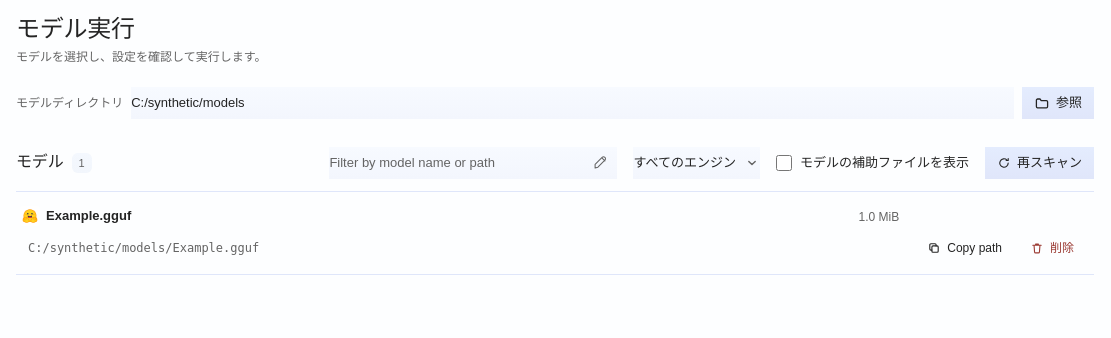
Test: model library empty results and filter recovery › explains query no-matches in ja and restores the scanned rows without changing the folder
The image size is (1111, 338).
Type "nothing matches" into the field named "Search models" at (473, 163), box [329,147,617,179]
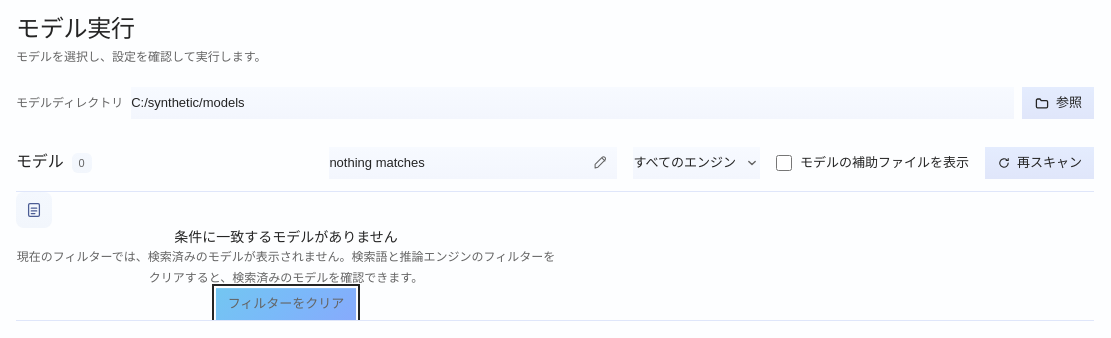
Expected: the heading "条件に一致するモデルがありません" is shown, [174,229,398,245]
Expected: the text "現在のフィルターでは、検索済みのモデルが表示されません。検索語と推論エンジンのフィルターをクリアすると、検索済みのモデルを確認できます。" is shown, [16,247,556,288]
Click the button "フィルターをクリア" at (286, 304), box [216,288,356,320]
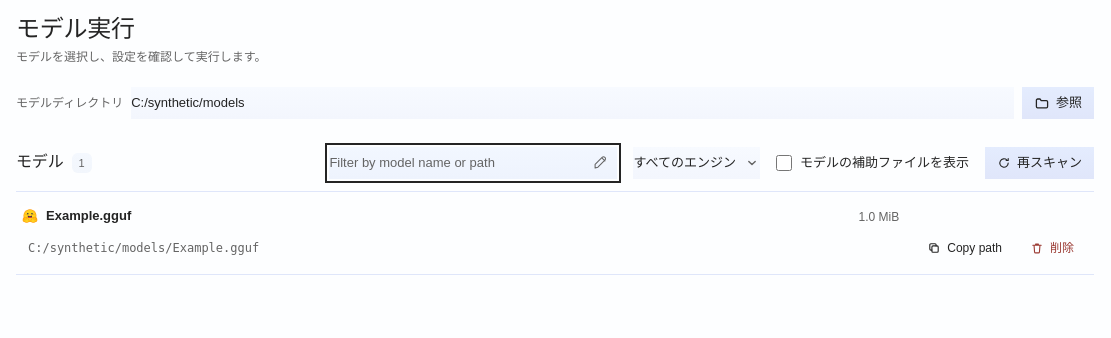
Expected: the checkbox labelled "モデルの補助ファイルを表示" is not checked, [776,155,792,171]
Expected: the field named "Search models" is empty, [329,147,617,179]
Expected: the number of list items is 1, [16,192,1094,274]
